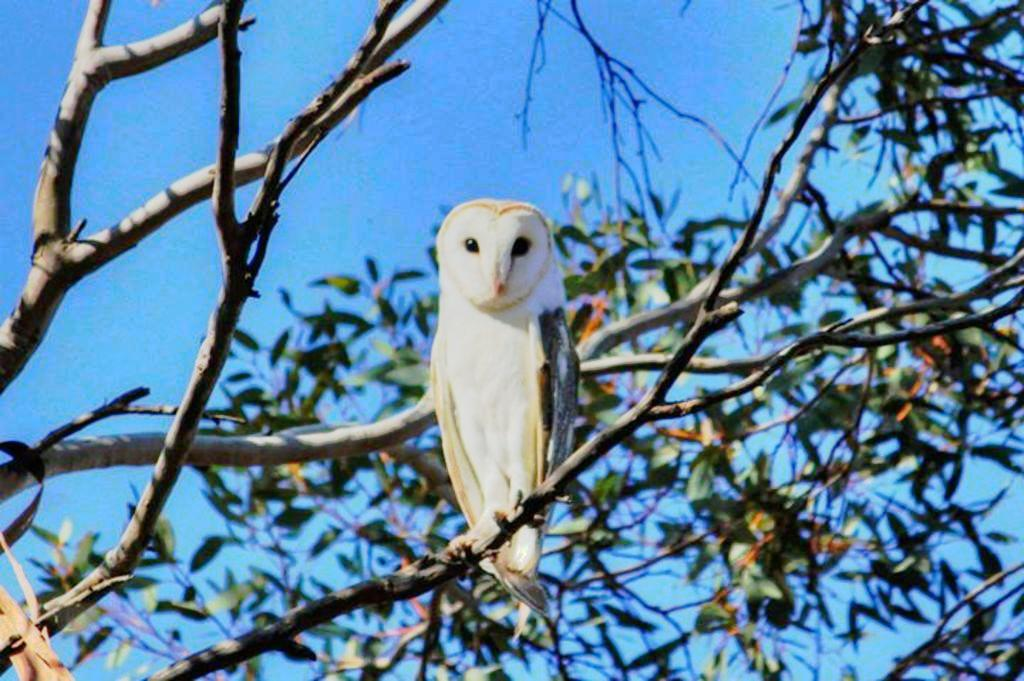Owl: (408, 188, 589, 616)
